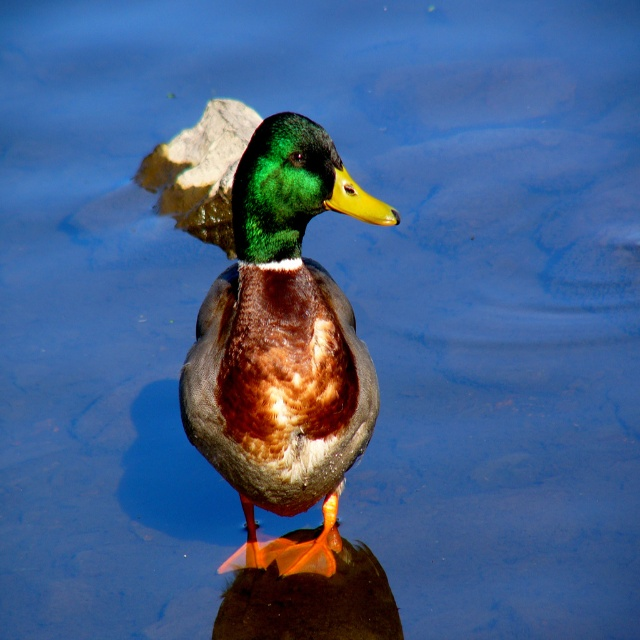Duck: (158, 112, 394, 573)
